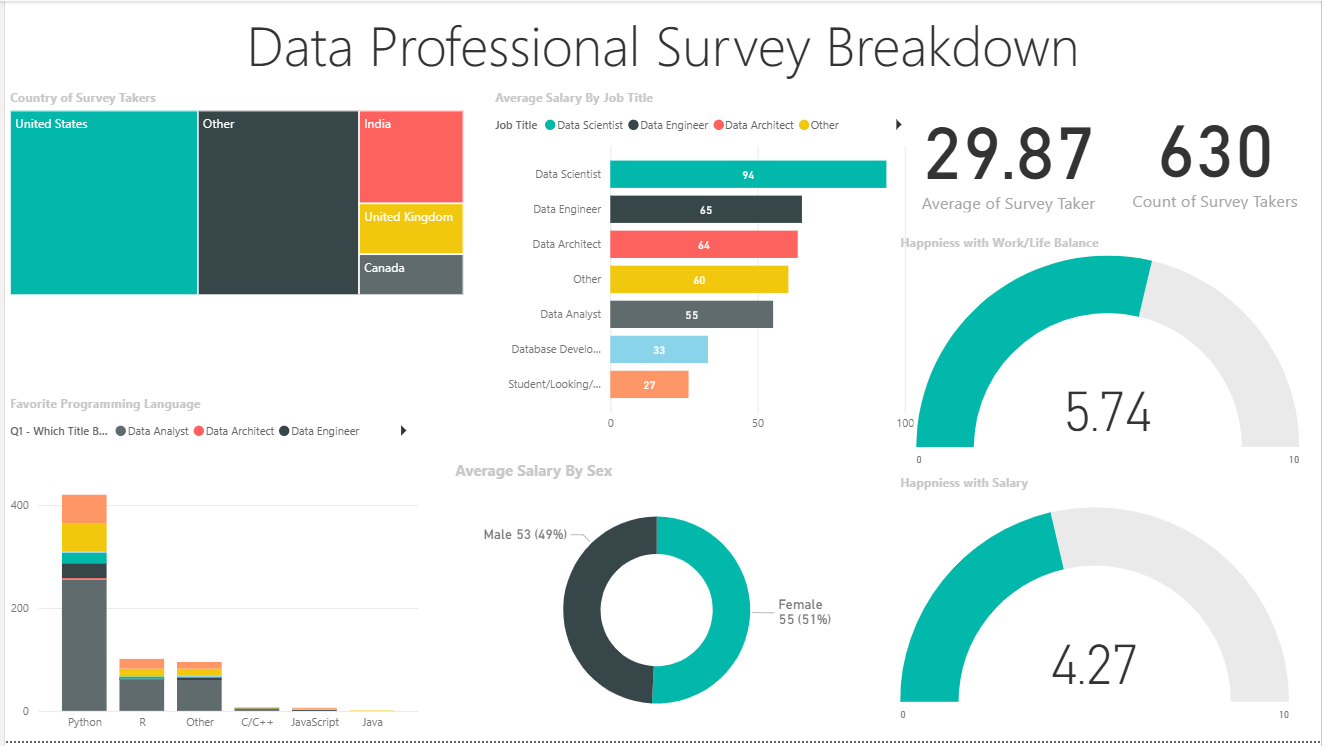

Layout of this report page (visuals, bound fields, positions):
{"tool":"powerbi","page":{"name":"Page 1","canvas":[1280,720],"ordinal":0},"visuals":[{"type":"textbox","box":[0,0,1280,86.4],"z":0},{"type":"card","fields":{"Values":["CountNonNull(Data Professional Survey.Unique ID)"]},"box":[1073.5,85.9,206.5,121.6],"z":1000},{"type":"card","fields":{"Values":["Avg(Data Professional Survey.Q10 - Current Age)"]},"box":[878.3,85.9,195.3,125],"z":2000},{"type":"barChart","title":"Average Salary By Job Title","fields":{"Category":["Data Professional Survey.Q1 - Which Title Best Fits your Current Role?.1"],"Y":["Avg(Data Professional Survey.Average Salary)"],"Series":["Data Professional Survey.Q1 - Which Title Best Fits your Current Role?.1"]},"box":[472,85.9,417.4,342.6],"z":3000},{"type":"columnChart","title":"Favorite Programming Language","fields":{"Category":["Data Professional Survey.Q5 - Favorite Programming Language.1"],"Y":["CountNonNull(Data Professional Survey.Unique ID)"],"Series":["Data Professional Survey.Q1 - Which Title Best Fits your Current Role?.1"]},"box":[0,382.8,407.3,335.9],"z":4000},{"type":"treemap","title":"Country of Survey Takers","fields":{"Group":["Data Professional Survey.Q11 - Which Country do you live in?.1"],"Values":["CountNonNull(Data Professional Survey.Q11 - Which Country do you live in?.1)"]},"box":[0,85.9,450.8,205.3],"z":5000},{"type":"gauge","title":"Happniess with Work/Life Balance","fields":{"Y":["Avg(Data Professional Survey.Q6 - How Happy are you in your Current Position with the following? (Work/Life Balance))"],"MinValue":["Min(Data Professional Survey.Q6 - How Happy are you in your Current Position with the following? (Work/Life Balance))1"],"MaxValue":["Max(Data Professional Survey.Q6 - How Happy are you in your Current Position with the following? (Work/Life Balance))2"]},"box":[866,226.5,414,233.2],"z":6000},{"type":"gauge","title":"Happniess with Salary","fields":{"Y":["Avg(Data Professional Survey.Q6 - How Happy are you in your Current Position with the following? (Salary))"],"MinValue":["Min(Data Professional Survey.Q6 - How Happy are you in your Current Position with the following? (Salary))1"],"MaxValue":["Max(Data Professional Survey.Q6 - How Happy are you in your Current Position with the following? (Salary))2"]},"box":[866,459.8,388.4,258.9],"z":7000},{"type":"donutChart","title":"Average Salary By Sex","fields":{"Category":["Data Professional Survey.Q9 - Male/Female?"],"Y":["Avg(Data Professional Survey.Average Salary)"]},"box":[433,446,402,272],"z":7001}]}

Visuals, with their boxes in screenshot pixels (x1, y1, x2, y2), scaled from the page's 1280x720 canvas onto the 1322x746 screenshot:
textbox: {"left": 0, "top": 0, "right": 1321, "bottom": 90}
card - CountNonNull(Data Professional Survey.Unique ID): {"left": 1109, "top": 89, "right": 1321, "bottom": 215}
card - Avg(Data Professional Survey.Q10 - Current Age): {"left": 907, "top": 89, "right": 1109, "bottom": 219}
"Average Salary By Job Title" barChart: {"left": 487, "top": 89, "right": 919, "bottom": 444}
"Favorite Programming Language" columnChart: {"left": 0, "top": 397, "right": 421, "bottom": 745}
"Country of Survey Takers" treemap: {"left": 0, "top": 89, "right": 466, "bottom": 302}
"Happniess with Work/Life Balance" gauge: {"left": 894, "top": 235, "right": 1321, "bottom": 476}
"Happniess with Salary" gauge: {"left": 894, "top": 476, "right": 1296, "bottom": 745}
"Average Salary By Sex" donutChart: {"left": 447, "top": 462, "right": 862, "bottom": 744}
